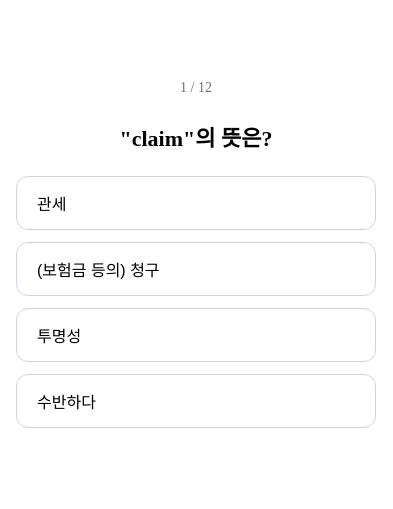
Test: DiagnosisScreen › 옵션을 고르면 정답/오답 피드백이 보이고, '다음'을 눌러야 다음 문항으로 넘어간다
The image size is (393, 509).
Click the button "관세": (52, 204) [16, 176, 376, 230]
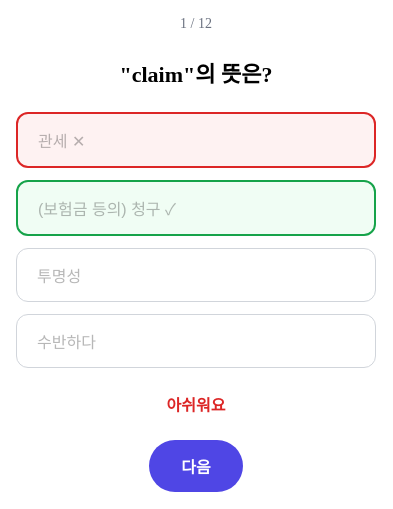
expect the text "1 / 12" is shown: met, box [180, 16, 212, 32]
expect the text "아쉬워요" is shown: met, box [166, 392, 225, 416]
Click the button "다음": (196, 466) [149, 440, 243, 492]
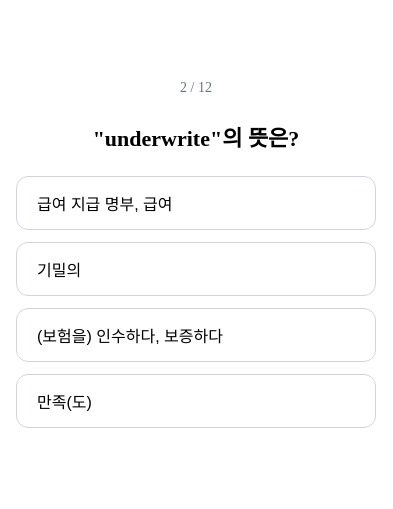
expect the text "2 / 12" is shown: met, box [180, 80, 212, 96]
